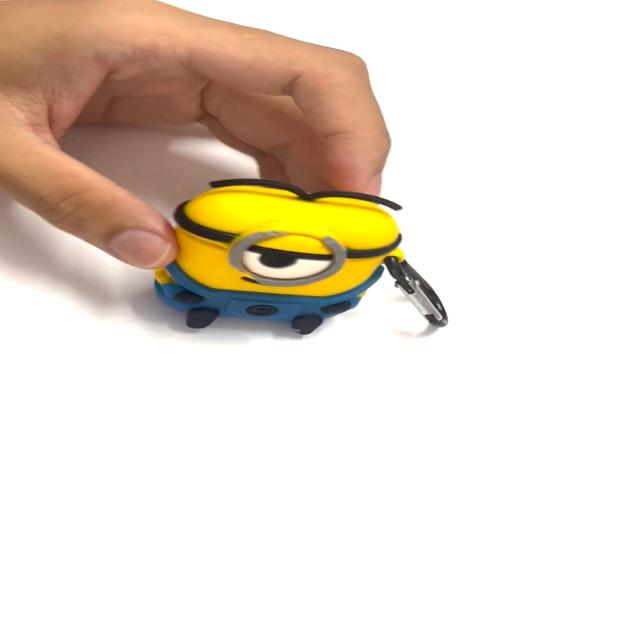airpod minion: (136, 176, 482, 360)
